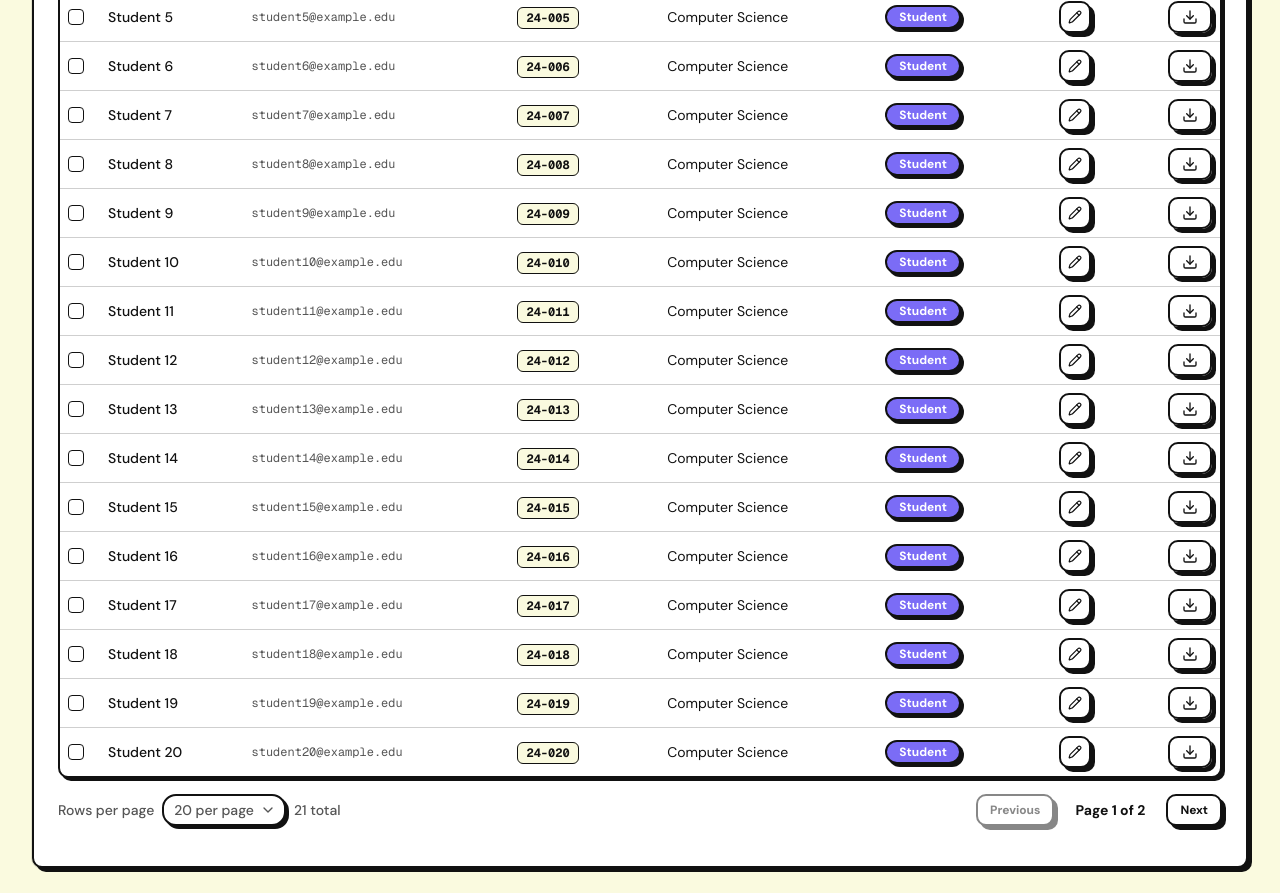
it: Student roster pagination (Issue #218) › resets to the first page when filtering the roster
(page scrolled)
Click the button with aria-label "Next page": (1194, 810) [1166,794,1222,826]
(page scrolled)
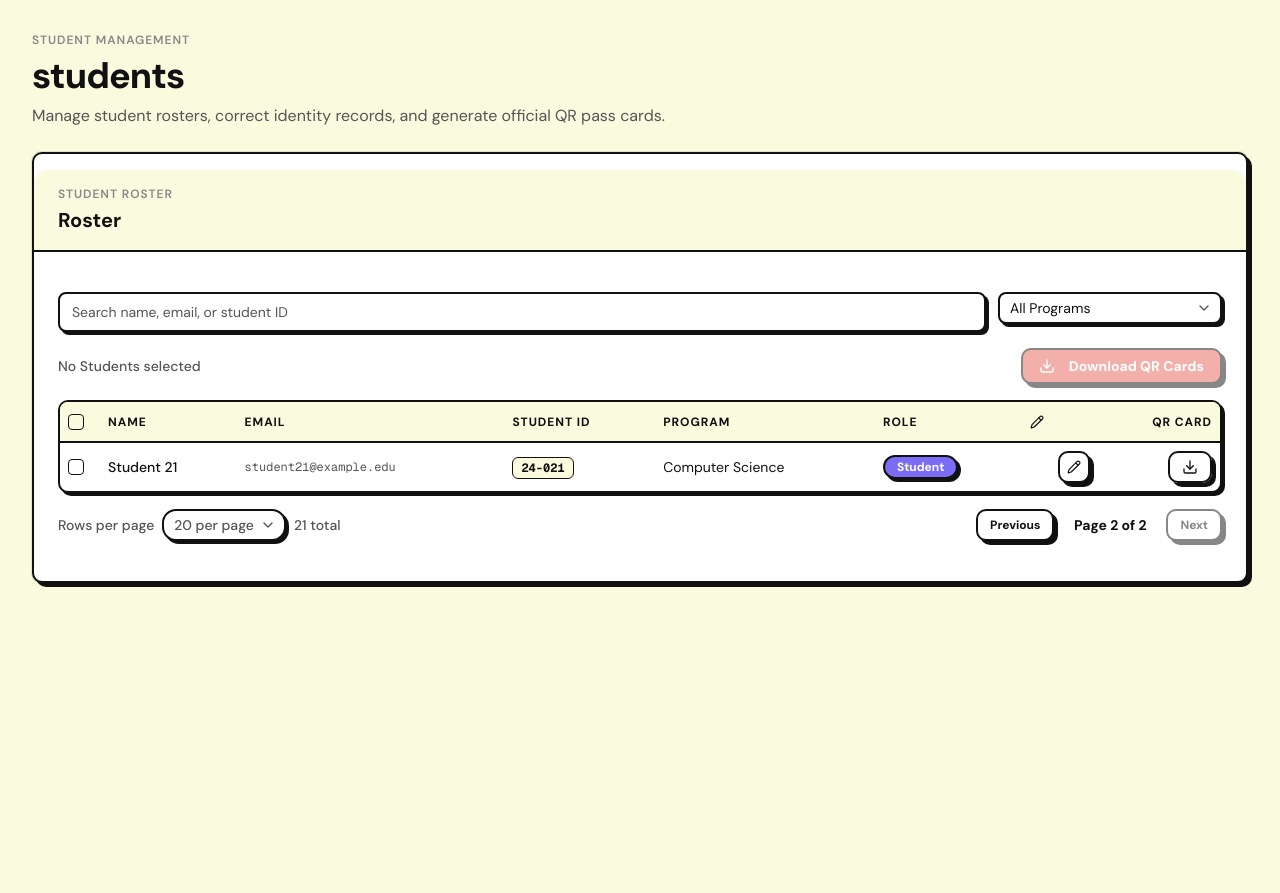
In the field labelled "Search name, email, or student ID": (522, 312) [58,292,986,332], type "Student 1"
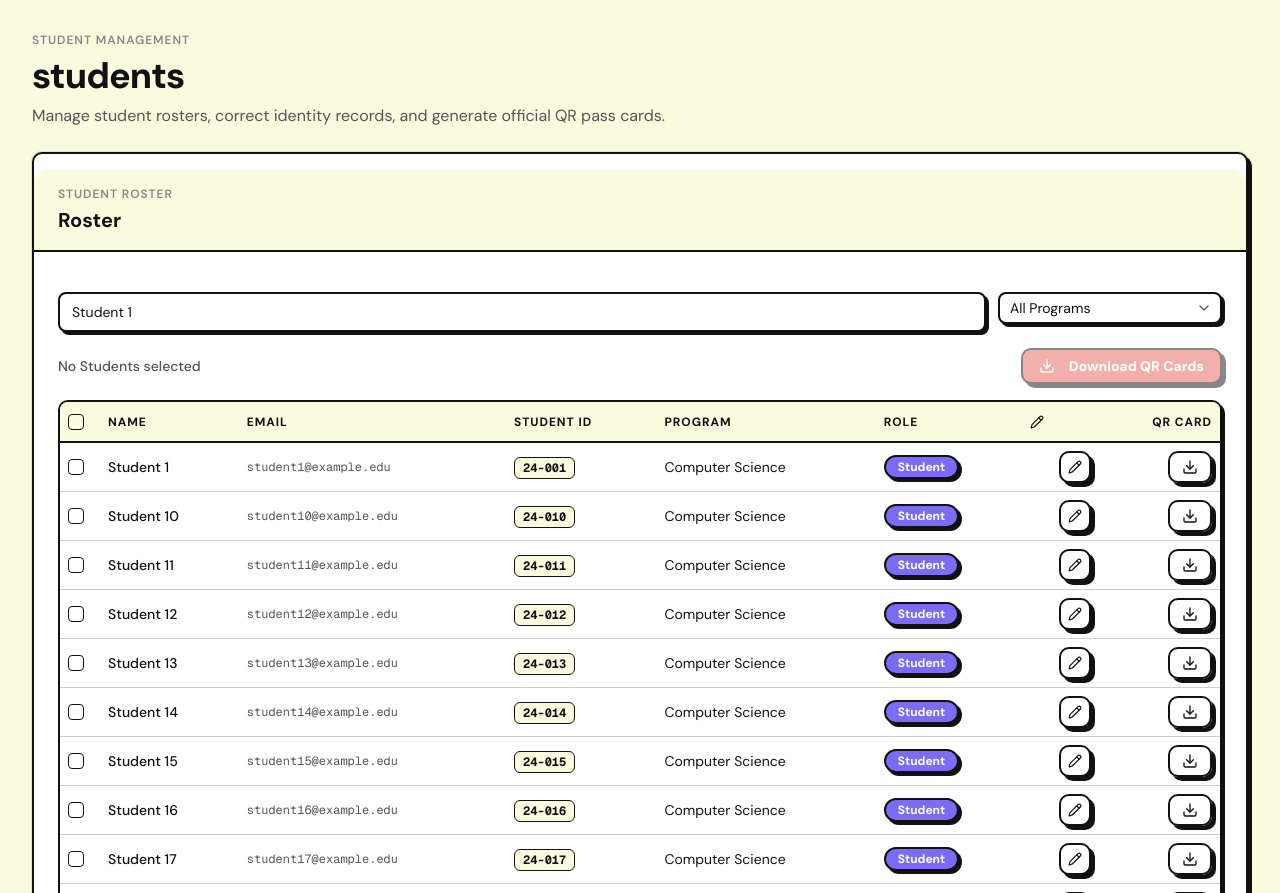
Now the text "Student 1" is shown, box [100,442,239,492]
